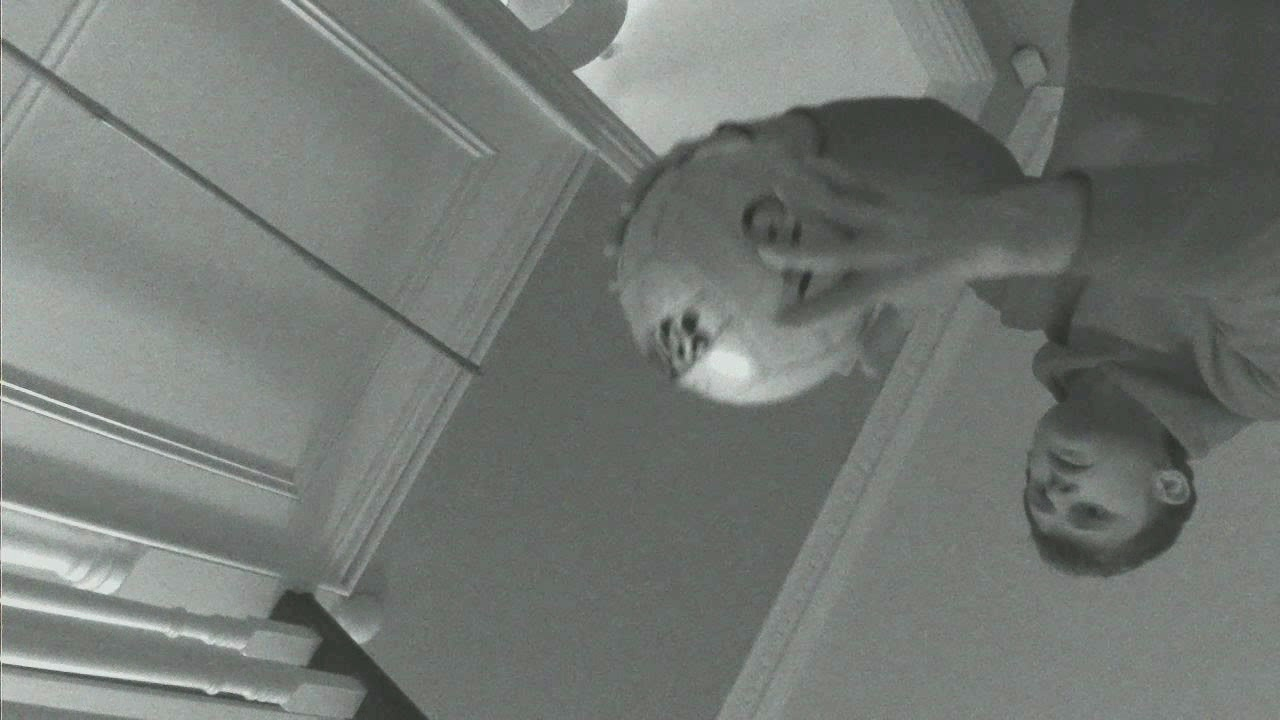Football-Spotter: (616, 155, 864, 404)
